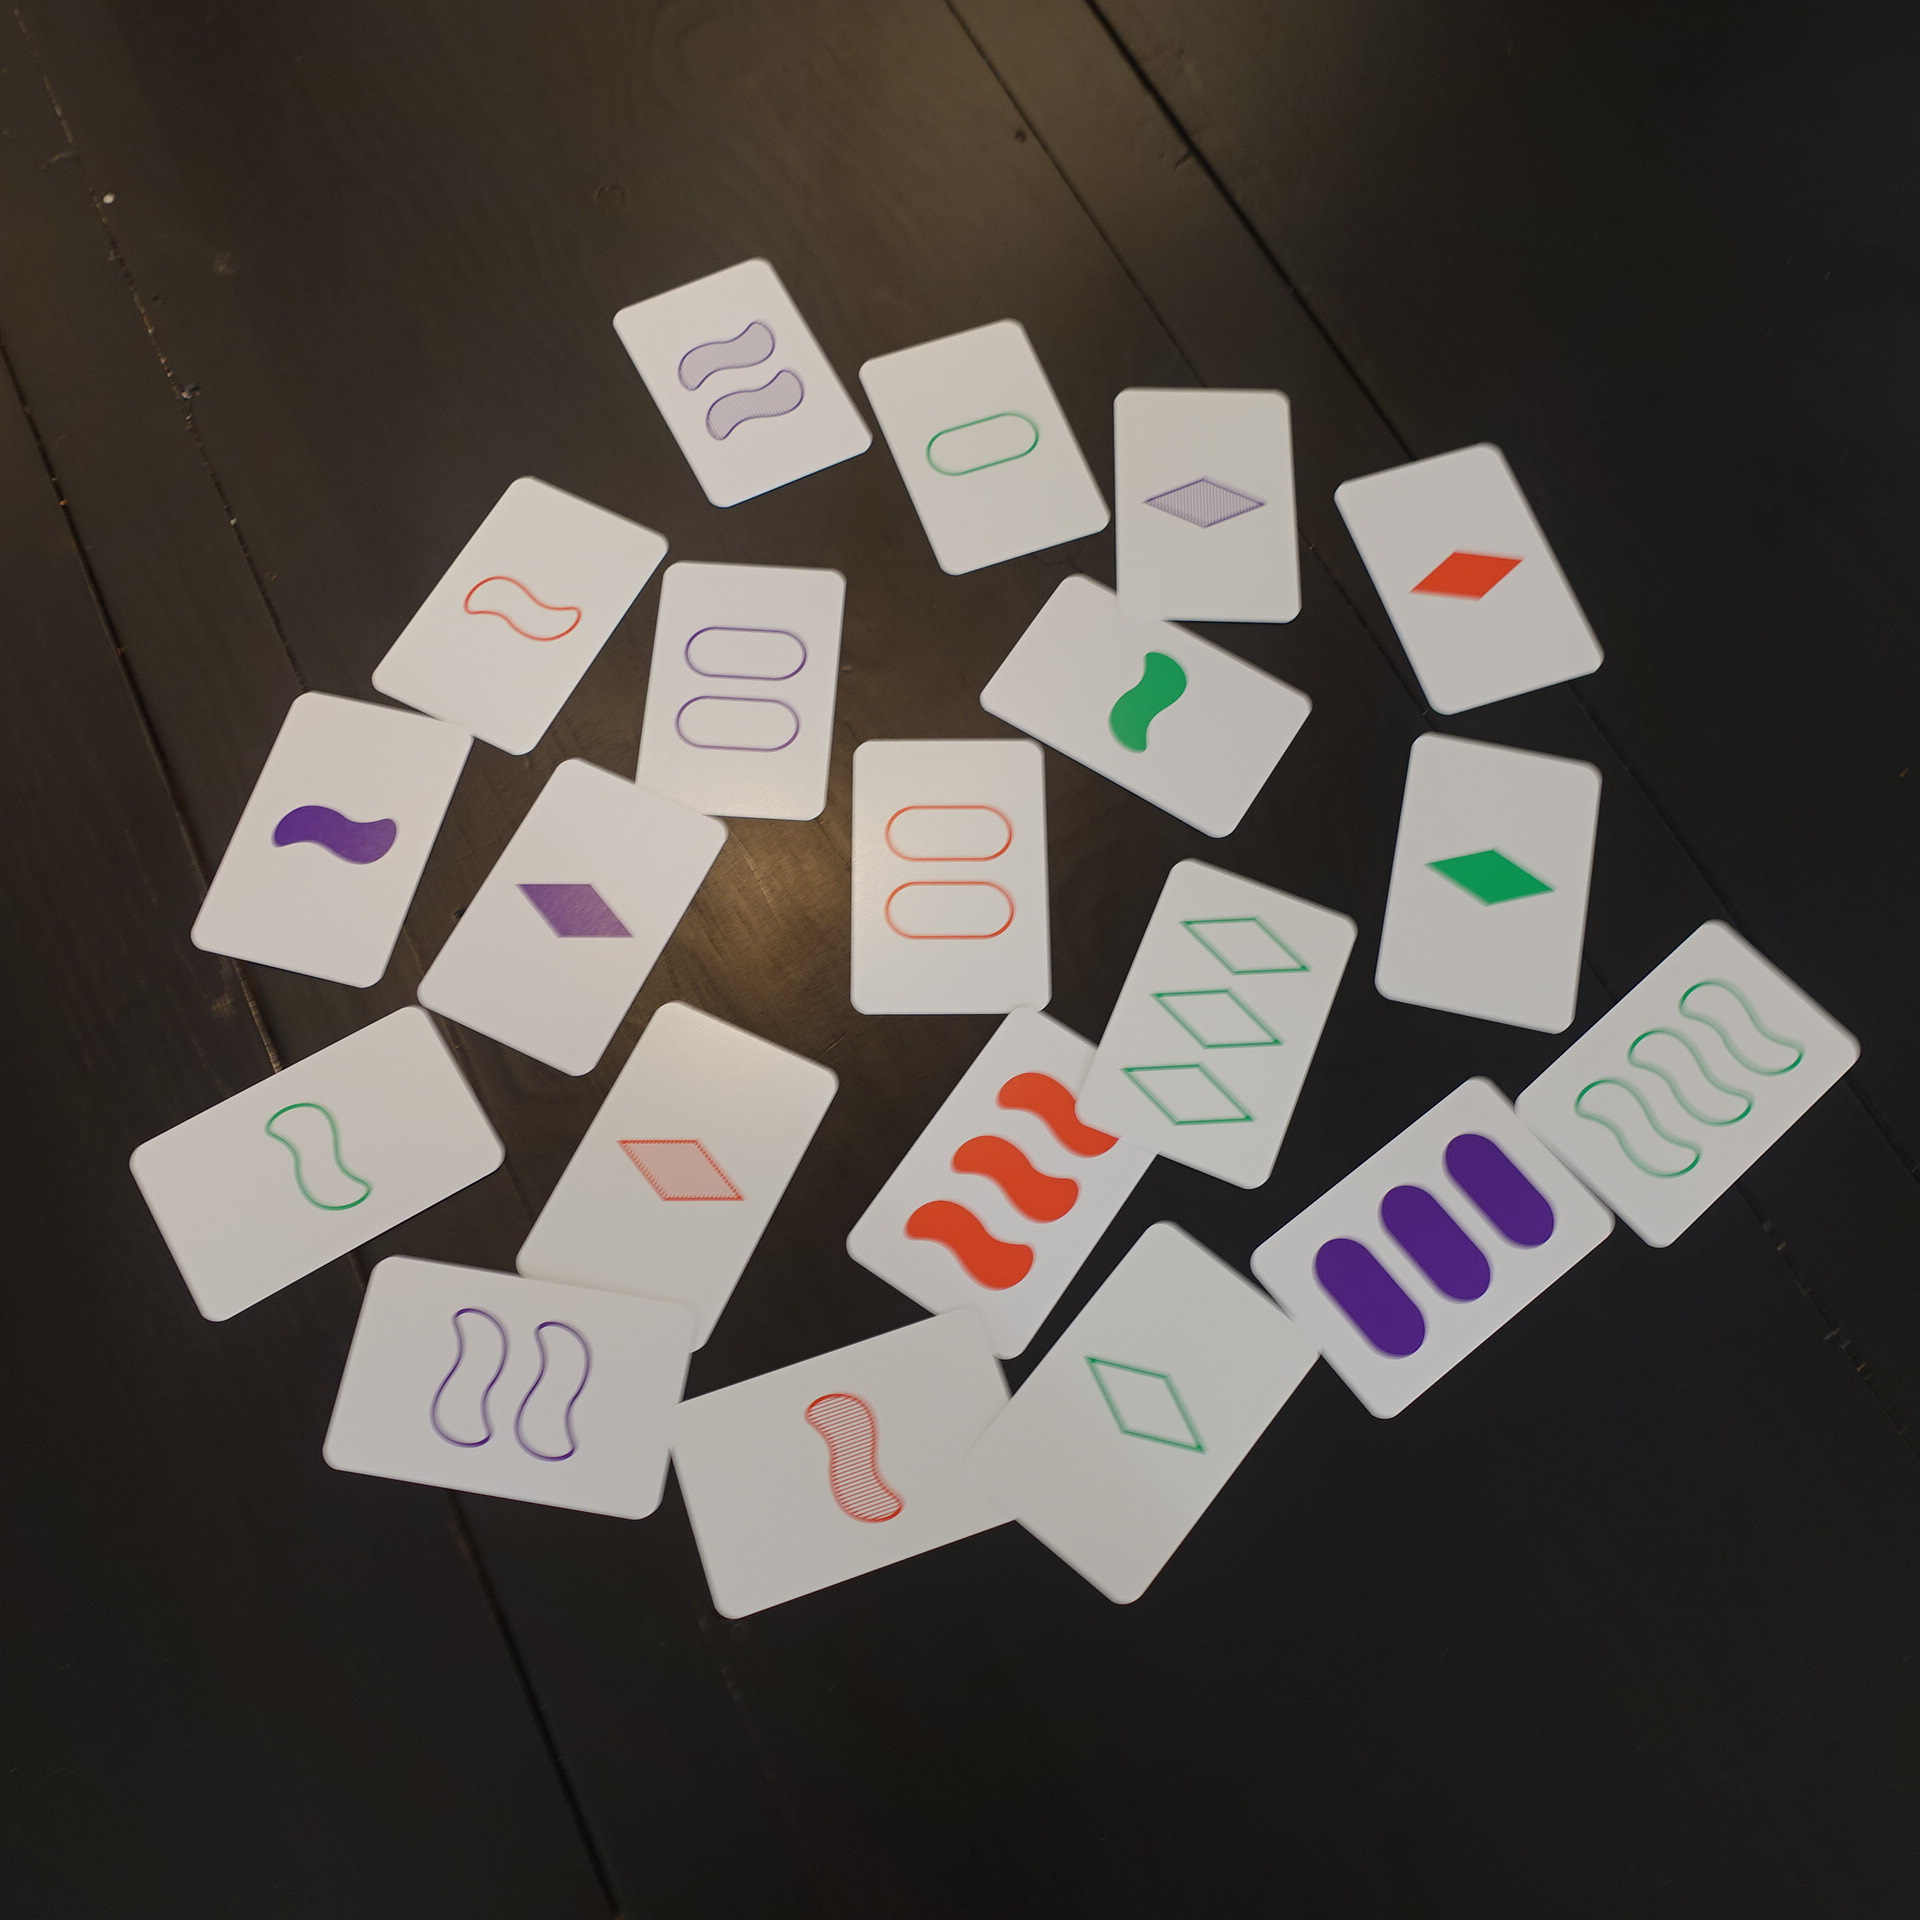c-2-f-d-r: (956, 1217, 1335, 1612), (1245, 1074, 1623, 1429), (121, 1000, 515, 1336), (505, 995, 851, 1361), (661, 1303, 1039, 1628), (1512, 913, 1869, 1254), (840, 1002, 1175, 1364), (410, 747, 740, 1081), (311, 1248, 703, 1528), (1064, 851, 1363, 1199), (179, 680, 480, 1000), (972, 568, 1319, 842), (369, 469, 673, 761), (1329, 433, 1616, 726), (1368, 719, 1609, 1050), (601, 250, 881, 515), (849, 315, 1116, 584), (835, 731, 1060, 1029), (628, 554, 853, 826), (1106, 376, 1312, 629)
